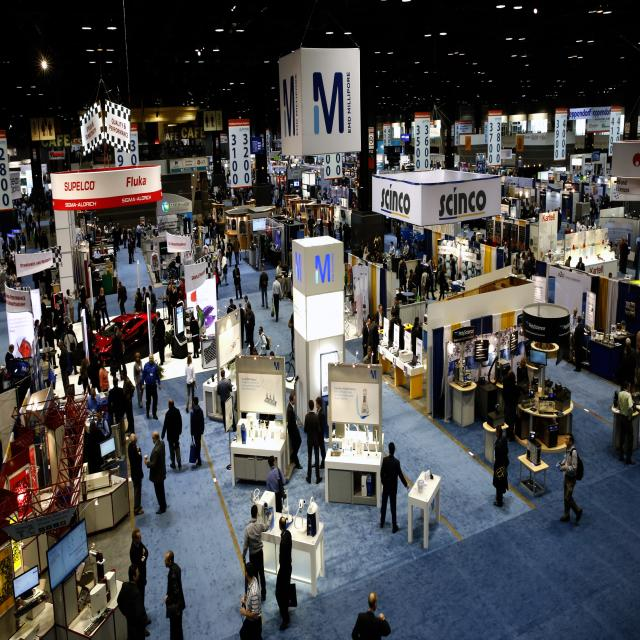body: (240, 503, 274, 604), (377, 439, 411, 536), (129, 527, 152, 638), (116, 562, 148, 640), (558, 431, 584, 523), (163, 550, 187, 640), (349, 591, 392, 640), (143, 430, 167, 514), (275, 516, 292, 632), (239, 562, 263, 640), (617, 379, 637, 467), (303, 398, 323, 485), (491, 424, 511, 508), (161, 398, 183, 469), (127, 432, 145, 516), (140, 353, 162, 421), (106, 376, 128, 441), (286, 392, 304, 470), (216, 369, 237, 433), (82, 420, 106, 475), (188, 395, 205, 468), (154, 134, 203, 159), (266, 455, 286, 513), (120, 368, 136, 438), (311, 396, 326, 469), (72, 141, 114, 166), (504, 370, 518, 442), (619, 344, 637, 394), (64, 322, 80, 376), (624, 337, 636, 397), (58, 340, 70, 400), (154, 311, 167, 366), (44, 319, 58, 370), (185, 353, 197, 412), (572, 315, 584, 373), (133, 352, 145, 409), (55, 478, 74, 510), (367, 315, 379, 364), (98, 287, 112, 328), (569, 306, 579, 363), (78, 349, 90, 396), (188, 314, 200, 360), (196, 304, 207, 354), (253, 326, 271, 356), (271, 274, 282, 322), (95, 408, 112, 439), (246, 304, 256, 356), (502, 364, 512, 416), (40, 352, 54, 388), (76, 281, 87, 325), (425, 260, 437, 300), (111, 325, 120, 378), (86, 388, 103, 416), (66, 386, 80, 419), (5, 344, 17, 382), (232, 264, 244, 300), (438, 266, 450, 302), (207, 182, 231, 200), (259, 266, 269, 308), (150, 246, 161, 284), (98, 359, 110, 393), (53, 302, 64, 339), (276, 260, 286, 300), (117, 280, 128, 316), (118, 334, 127, 378), (31, 262, 41, 300), (516, 356, 530, 383), (362, 318, 371, 360), (166, 284, 175, 326), (634, 329, 640, 392), (411, 320, 421, 357), (93, 296, 102, 336), (83, 298, 93, 334), (414, 259, 423, 299), (621, 239, 631, 275), (244, 295, 251, 346), (63, 323, 76, 350), (66, 289, 76, 324), (421, 266, 429, 309), (449, 252, 457, 294), (388, 309, 398, 342), (170, 284, 178, 325), (489, 165, 518, 176), (219, 256, 229, 287), (282, 260, 290, 298), (41, 188, 52, 215), (21, 191, 35, 212), (396, 318, 405, 350), (374, 304, 385, 330), (213, 266, 221, 300), (238, 301, 244, 346), (148, 284, 157, 314), (288, 308, 294, 352), (0, 234, 11, 258), (233, 234, 241, 266), (431, 255, 438, 291), (34, 319, 42, 350), (45, 270, 53, 301), (523, 254, 532, 280), (225, 238, 233, 267), (76, 284, 82, 322), (142, 286, 150, 314), (479, 232, 493, 248), (167, 259, 177, 281), (39, 314, 45, 350), (134, 288, 143, 312), (619, 236, 625, 272), (180, 278, 187, 308), (362, 345, 373, 364), (582, 190, 595, 206), (392, 296, 400, 321), (10, 268, 20, 288), (412, 316, 422, 336), (287, 237, 293, 270), (31, 223, 38, 251), (529, 252, 536, 280), (260, 231, 266, 263), (398, 260, 404, 292), (92, 347, 101, 368), (6, 255, 15, 276), (401, 240, 410, 261), (388, 241, 396, 264), (267, 179, 275, 202), (176, 215, 184, 238), (127, 238, 134, 264), (40, 270, 46, 300), (175, 252, 181, 282), (25, 220, 33, 242), (512, 253, 520, 275), (192, 218, 200, 240), (146, 219, 156, 236), (4, 252, 10, 280), (216, 244, 222, 272), (338, 222, 344, 250), (371, 250, 383, 264), (556, 206, 562, 234), (129, 235, 135, 262), (346, 223, 352, 250), (396, 222, 402, 249), (227, 298, 237, 314), (575, 257, 585, 273), (11, 247, 21, 263), (235, 187, 243, 207), (37, 230, 44, 252), (408, 269, 417, 286), (166, 277, 174, 296), (518, 249, 526, 268), (600, 193, 610, 208), (342, 220, 347, 249), (122, 225, 128, 249), (611, 243, 619, 261), (250, 166, 258, 184), (586, 219, 596, 233), (4, 272, 11, 292), (116, 222, 122, 245), (94, 247, 102, 264), (94, 223, 102, 240), (40, 297, 47, 316), (21, 232, 27, 254), (178, 277, 184, 299), (564, 253, 572, 269), (318, 216, 324, 237), (376, 233, 383, 251), (12, 197, 21, 211), (137, 224, 142, 248), (212, 228, 217, 252), (402, 258, 408, 278), (209, 222, 214, 245), (202, 242, 210, 256), (246, 186, 254, 200), (591, 200, 596, 222), (43, 232, 49, 250), (438, 257, 444, 275), (334, 179, 346, 188), (528, 200, 534, 218), (595, 198, 600, 219), (279, 182, 287, 195), (382, 258, 390, 271), (219, 236, 225, 253), (502, 241, 508, 258), (216, 220, 220, 245), (265, 233, 269, 258), (309, 218, 314, 238), (49, 217, 54, 237), (363, 242, 370, 256), (16, 235, 22, 251), (274, 195, 279, 214), (361, 239, 366, 258), (535, 204, 540, 223), (21, 206, 26, 224), (220, 225, 226, 240), (462, 169, 477, 175), (22, 201, 27, 218), (373, 240, 378, 257), (99, 239, 105, 253), (502, 233, 508, 247), (136, 222, 140, 242), (37, 211, 41, 231), (328, 217, 332, 237), (579, 221, 587, 231), (251, 346, 259, 356), (88, 259, 94, 272), (133, 227, 136, 253), (351, 198, 357, 211), (219, 197, 223, 216), (576, 218, 581, 233), (178, 277, 182, 295), (276, 196, 280, 214), (322, 189, 328, 201), (546, 251, 552, 263), (15, 232, 21, 244), (127, 225, 132, 239), (28, 212, 33, 226), (512, 243, 519, 253), (231, 192, 235, 209), (608, 271, 614, 282), (112, 225, 117, 238), (298, 187, 303, 200), (18, 204, 22, 220), (150, 234, 154, 250), (213, 218, 217, 234), (540, 198, 544, 214), (471, 230, 476, 242), (308, 215, 312, 229), (515, 193, 523, 200), (429, 165, 440, 170), (24, 215, 29, 226), (283, 189, 286, 207), (104, 226, 108, 239), (276, 187, 280, 200), (255, 232, 259, 245), (111, 222, 116, 232), (284, 207, 289, 217), (398, 220, 403, 230), (268, 350, 275, 357), (128, 230, 134, 238), (233, 195, 237, 207), (244, 190, 248, 202), (280, 191, 283, 207), (312, 160, 320, 166), (297, 213, 302, 222), (527, 247, 532, 256), (204, 216, 208, 227), (374, 233, 378, 244), (306, 194, 312, 201), (32, 220, 36, 230), (292, 210, 296, 220), (291, 188, 296, 196), (532, 174, 536, 184), (223, 173, 226, 186), (288, 208, 292, 217), (311, 215, 315, 224), (306, 231, 311, 238), (350, 156, 355, 163), (227, 173, 230, 184), (215, 244, 218, 255), (196, 207, 199, 218), (526, 198, 530, 206), (281, 206, 285, 214), (590, 163, 594, 171), (334, 200, 339, 206), (298, 210, 302, 217), (197, 176, 201, 183), (316, 230, 320, 237), (534, 202, 537, 211), (104, 222, 107, 230), (316, 188, 318, 200), (355, 185, 359, 190), (344, 171, 348, 176), (399, 168, 404, 172), (588, 171, 592, 176), (352, 172, 355, 178), (508, 193, 512, 197), (210, 167, 213, 171), (331, 198, 333, 204), (315, 178, 317, 184), (227, 207, 229, 212), (207, 177, 209, 182), (210, 216, 212, 220), (342, 159, 344, 163), (346, 159, 348, 163), (229, 170, 230, 176), (293, 210, 294, 213)
